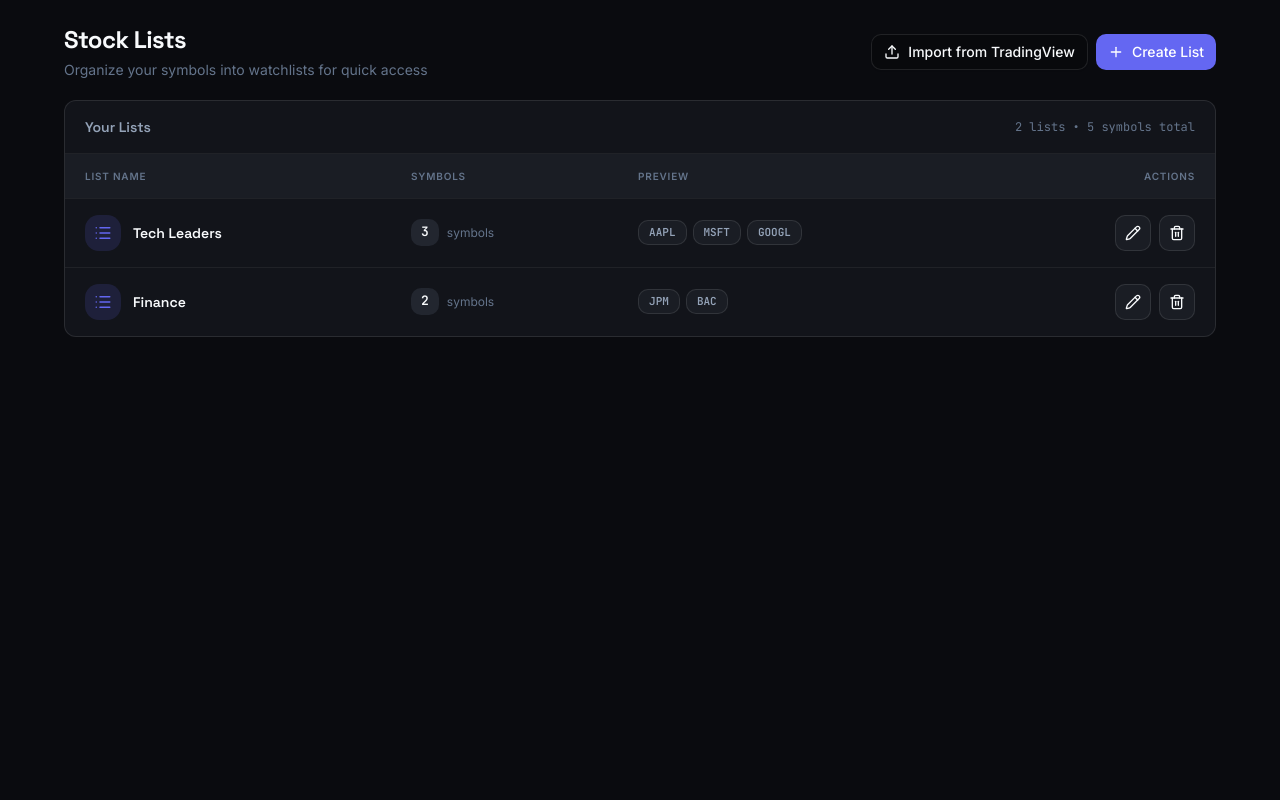
Test: StockLists Page › Edit Dialog › opens edit dialog when Edit button is clicked
Click the button named "edit tech leaders": {"x": 1133, "y": 232} x1=1115 y1=214 x2=1151 y2=250
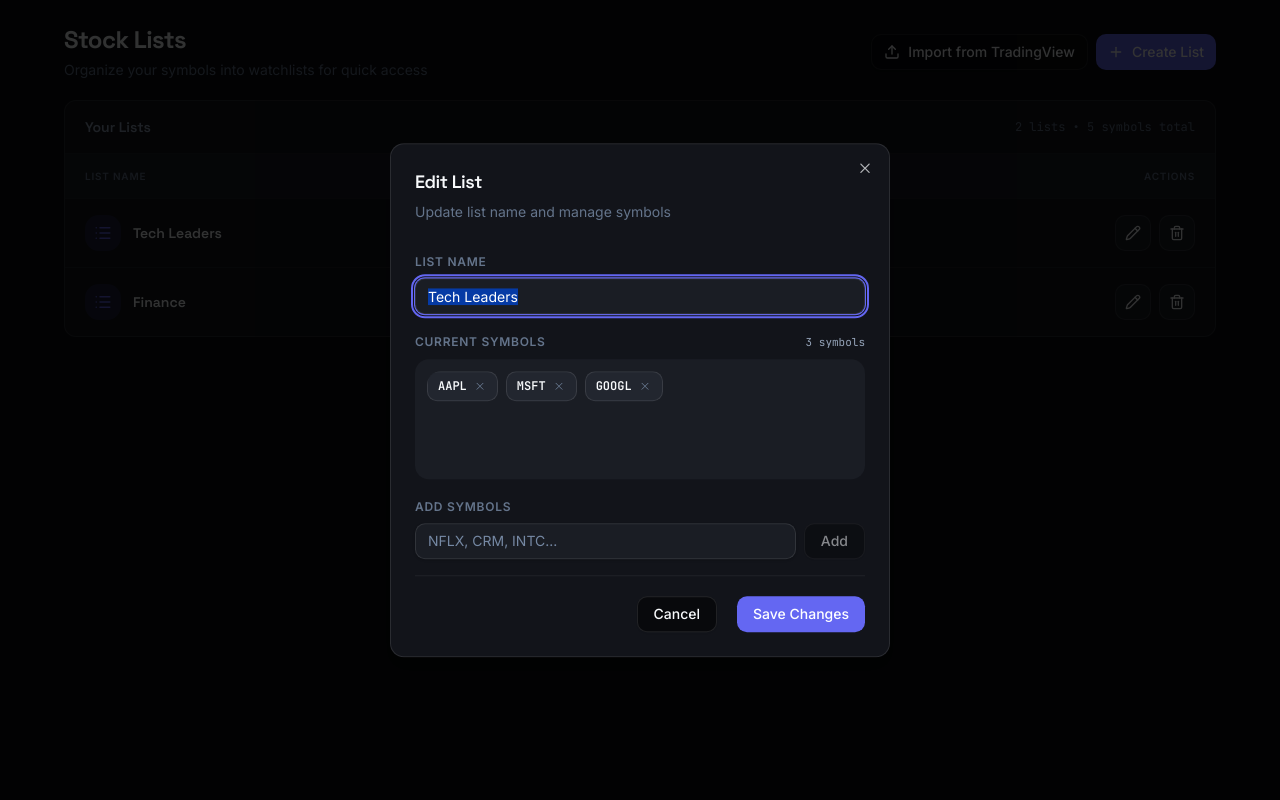
Check: the heading "Edit List" is shown, box x1=415 y1=170 x2=482 y2=193
Check: the field showing "Tech Leaders" is shown, box x1=415 y1=278 x2=865 y2=314
